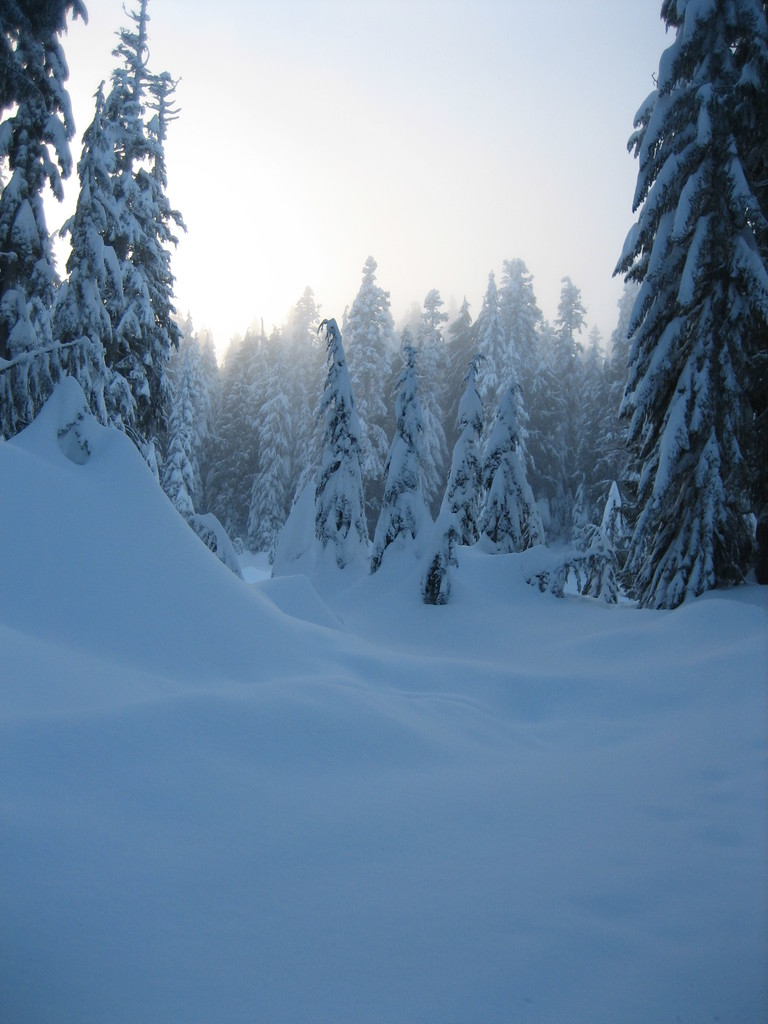Tree: (0, 0, 767, 611)
